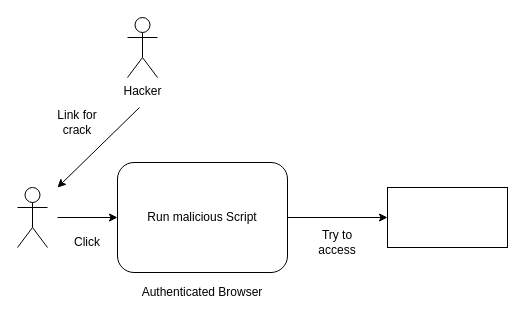
This 525x325 diagram has some shape labels left out. Each missing label, with the centre of its shape:
"server" belongs at point 447,217.
"User" belongs at point 32,217.
